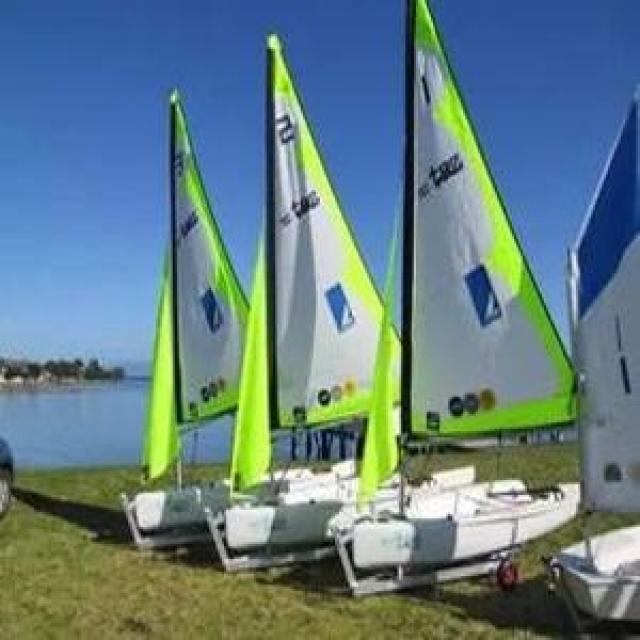sailboat: (337, 0, 583, 588), (207, 34, 432, 577), (118, 90, 268, 539)
